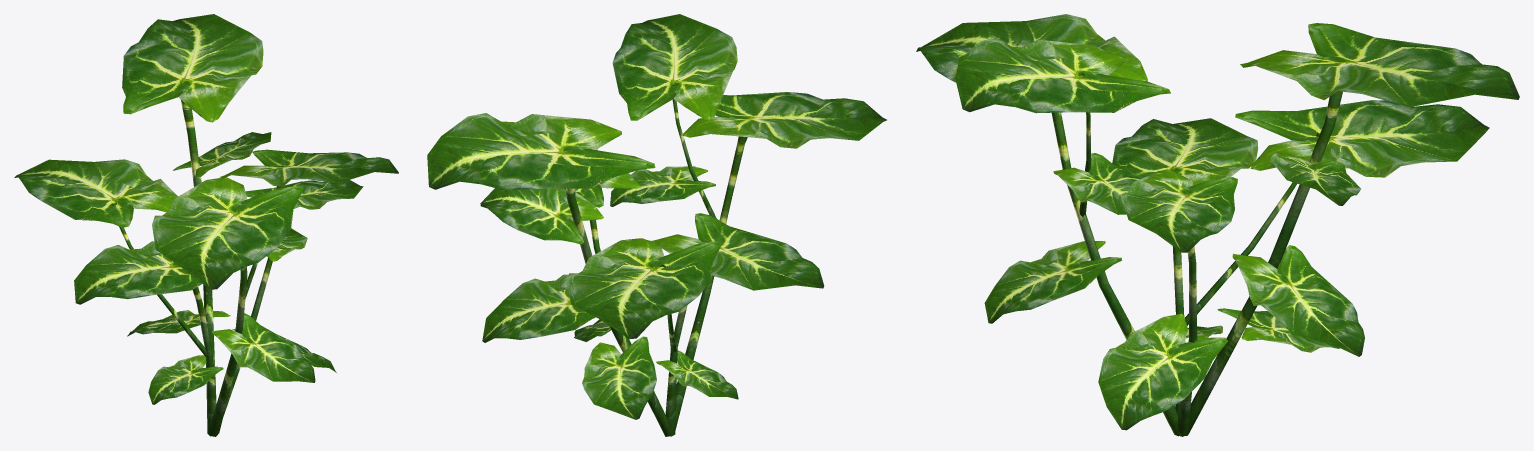
The model's file is Arrowhead3.fbx.
3 views of the same model, side by side, from view 1: azimuth 30°, elevation 25°; view 2: azimuth 150°, elevation 25°; view 3: azimuth 270°, elevation 25° (orthographic). The views are drawn at different scales.
Visible parts, largest first — view 1: Arrowhead3; view 2: Arrowhead3; view 3: Arrowhead3.
Part boxes in pixels (box(x1,y1,x2,y2)): Arrowhead3: box(14, 14, 398, 436); Arrowhead3: box(427, 14, 886, 436); Arrowhead3: box(916, 14, 1519, 436).
Bounding box in the file's own units: 42.39 × 43.98 × 57.77.
